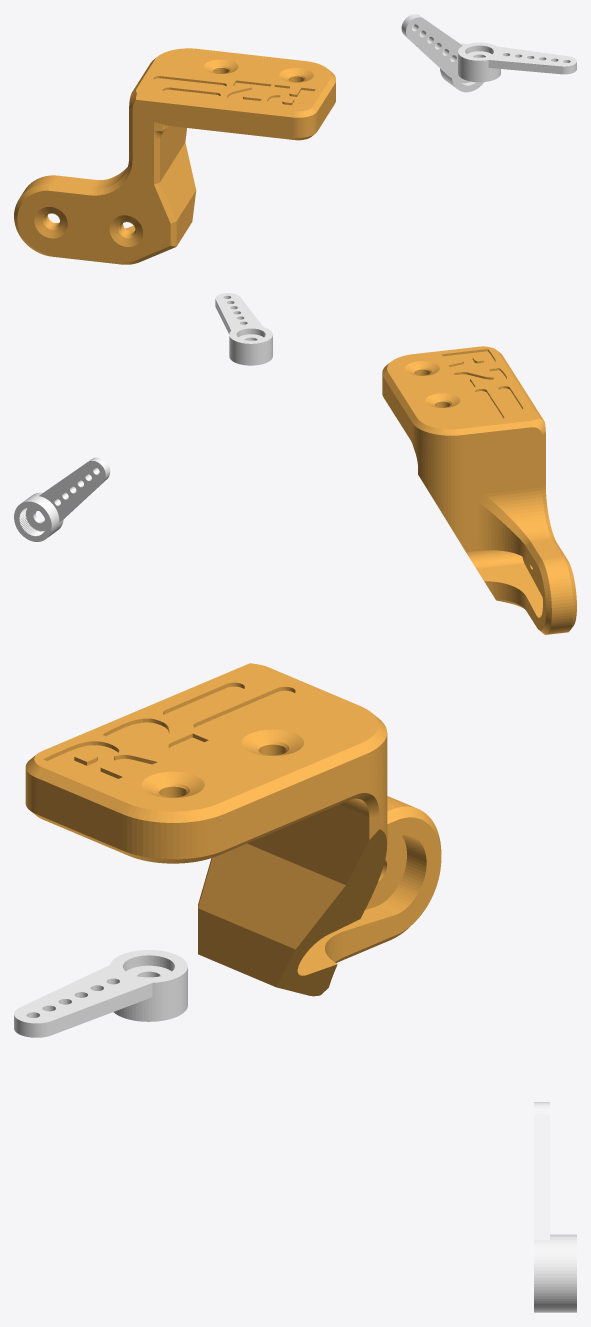
File: right_rear_leg.glb
3 views of the same model, one above another, from view 1: azimuth 30°, elevation 25°; view 2: azimuth 150°, elevation 25°; view 3: azimuth 270°, elevation 25° (orthographic). The views are drawn at different scales.
Parts seen in each view (by area): view 1: femur_joint_r2, sg90_horn_3, sg90_horn_4; view 2: femur_joint_r2, sg90_horn_4, sg90_horn_3; view 3: femur_joint_r2, sg90_horn_3, sg90_horn_4.
Part boxes in pixels (x1,y1,x2,y2): femur_joint_r2: (14, 48, 335, 264); sg90_horn_3: (458, 42, 576, 82); sg90_horn_4: (401, 14, 483, 92); femur_joint_r2: (382, 346, 576, 634); sg90_horn_4: (14, 457, 110, 541); sg90_horn_3: (215, 293, 272, 365); femur_joint_r2: (25, 663, 441, 996); sg90_horn_3: (14, 950, 187, 1037); sg90_horn_4: (534, 1102, 576, 1312).
Size of the model in its own units: 0.6573 by 0.2134 by 0.3486.
